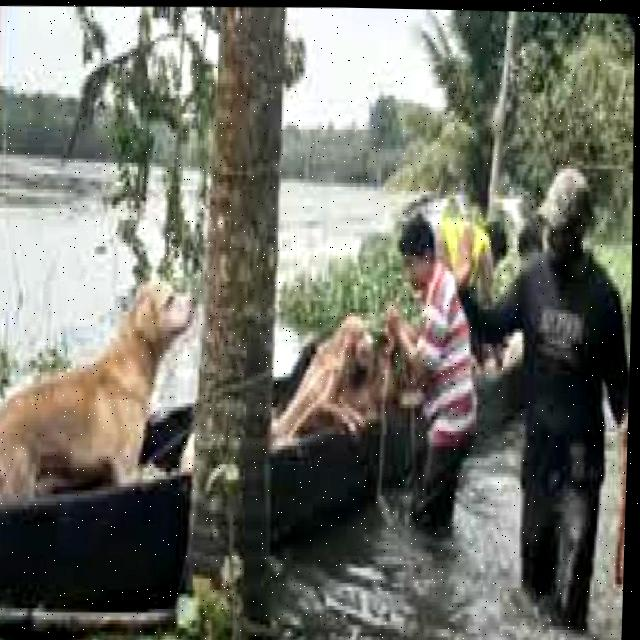civilian: (489, 163, 635, 640), (385, 213, 494, 533), (428, 203, 516, 331)
dog: (0, 271, 201, 498), (276, 301, 383, 438)
